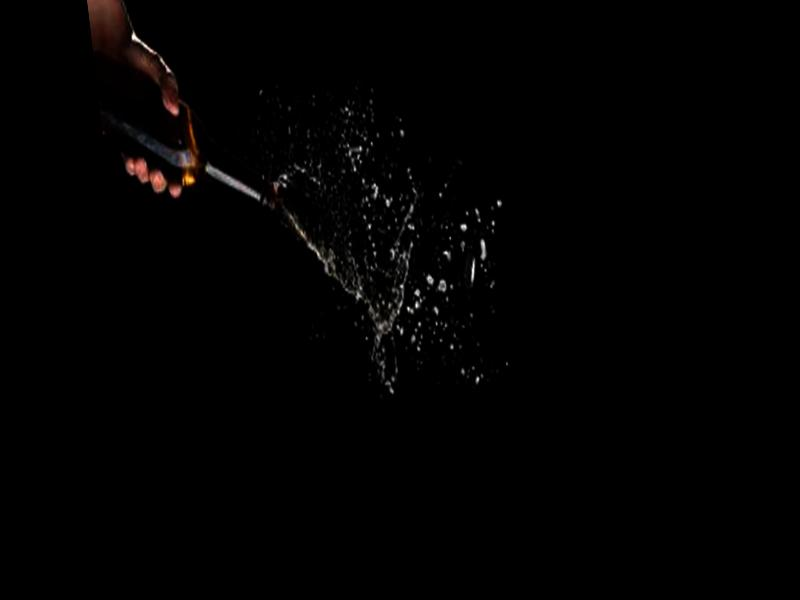Beer: (93, 28, 278, 233)
